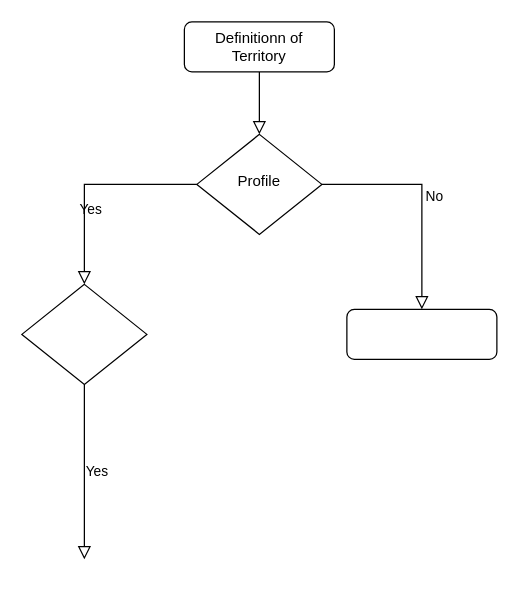
Some shapes in this 519 by 594 pixel diagram are drawn without their labels. The centre of each missing label's shape, as x and y in pixels:
Plug in lamp: [421,333]
Territorial Agent: [84,333]
